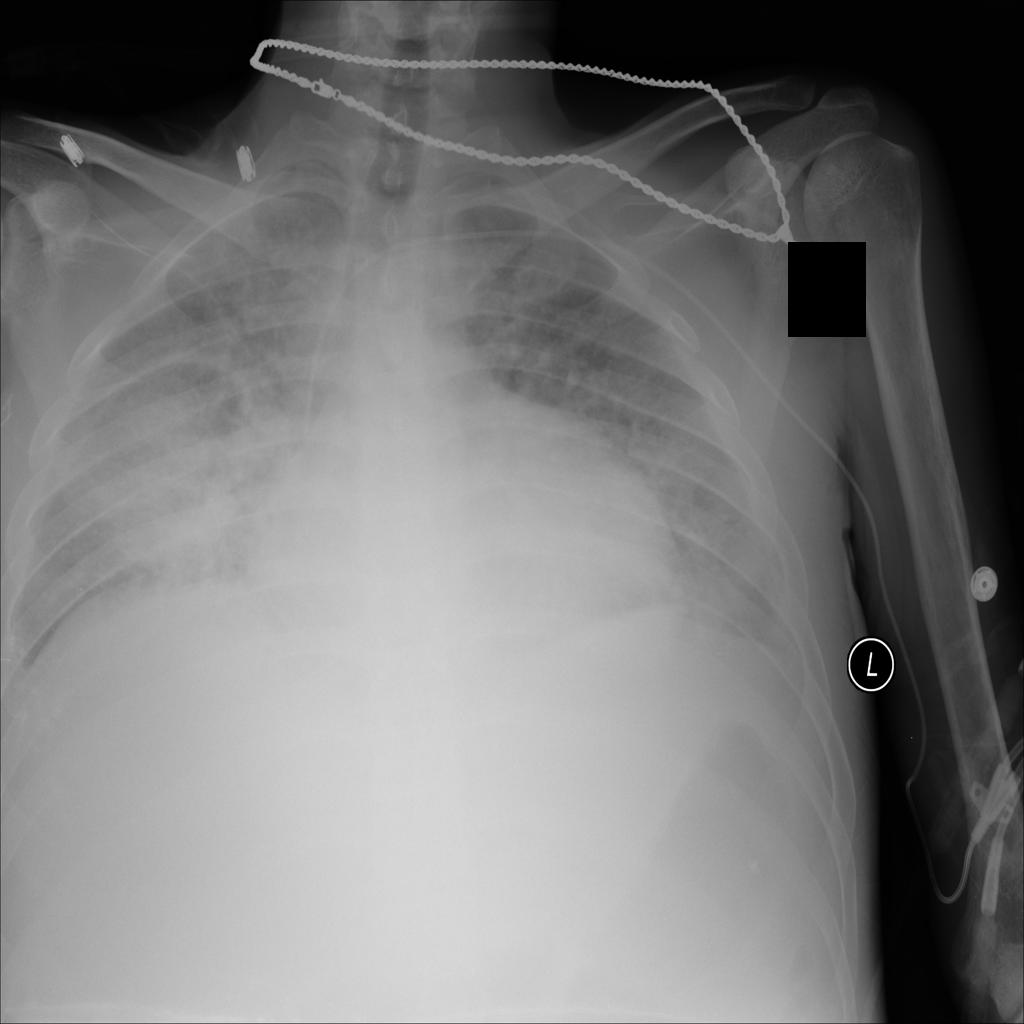Cardiomegaly: (225, 388, 709, 675)
